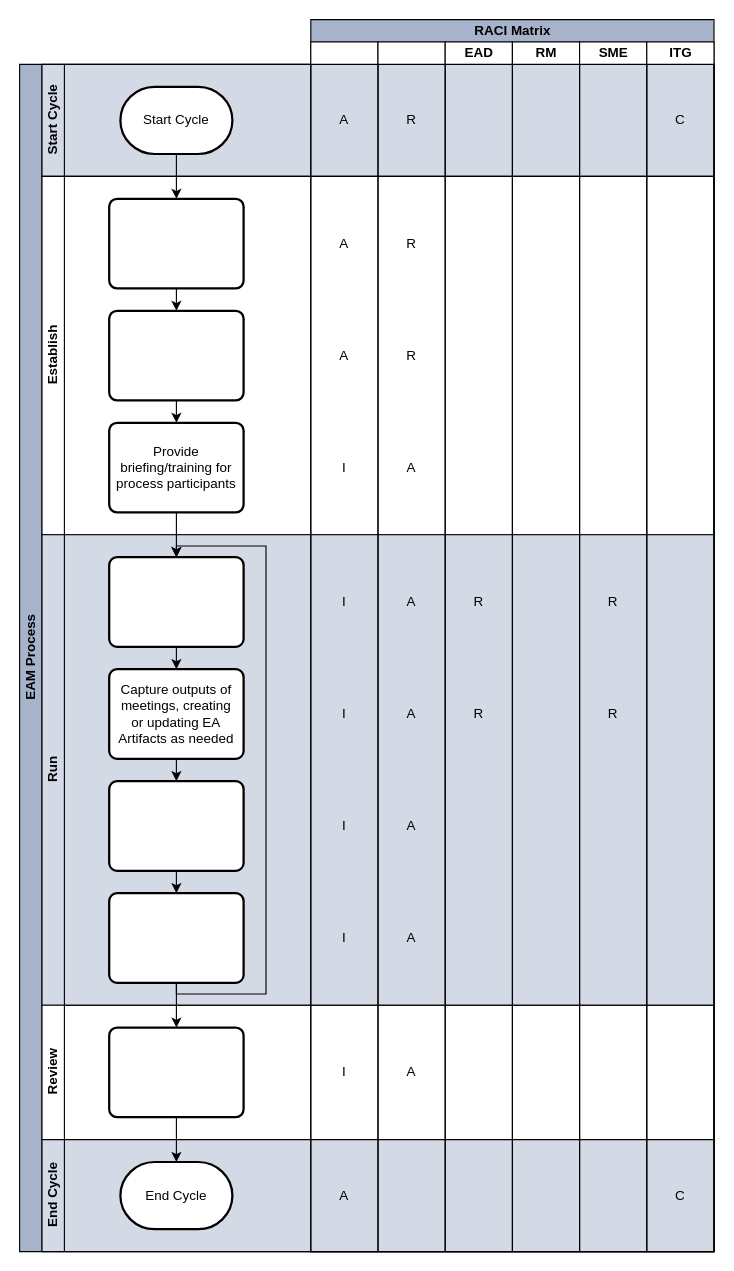
Image size: 734x1271. Some labels were removed from this diagram. Each missing label, with the box of its shape:
CTO: (310, 41, 378, 1252)
EA: (377, 41, 445, 1252)
Engage with EA Delegates and stakeholders to aid communications: (108, 892, 244, 983)
Ensure sub-process outputs are fed to other sub-processes as appropriate: (108, 780, 244, 871)
Identify business area stakeholders or their proxies: (108, 197, 244, 289)
Identify EA Delegates: (108, 309, 244, 401)
Monitor meeting schedule, occurences and attendances: (108, 556, 244, 647)
Produce annual report of state of EA and EAM: (108, 1026, 244, 1118)
